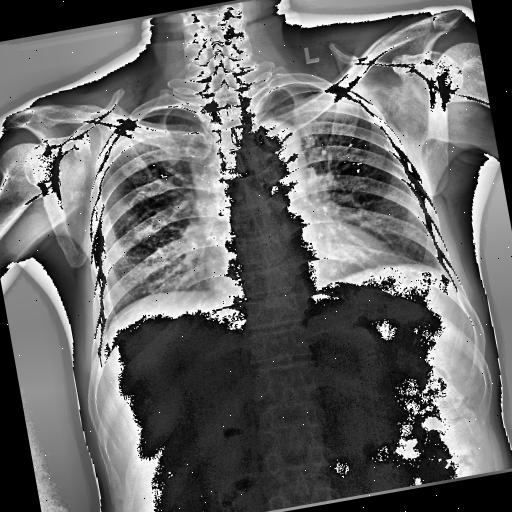0- Aortic enlargement: (238, 112, 304, 170), (242, 114, 304, 172), (243, 118, 307, 172)
3- Cardiomegaly: (202, 222, 398, 300), (200, 224, 396, 294)
